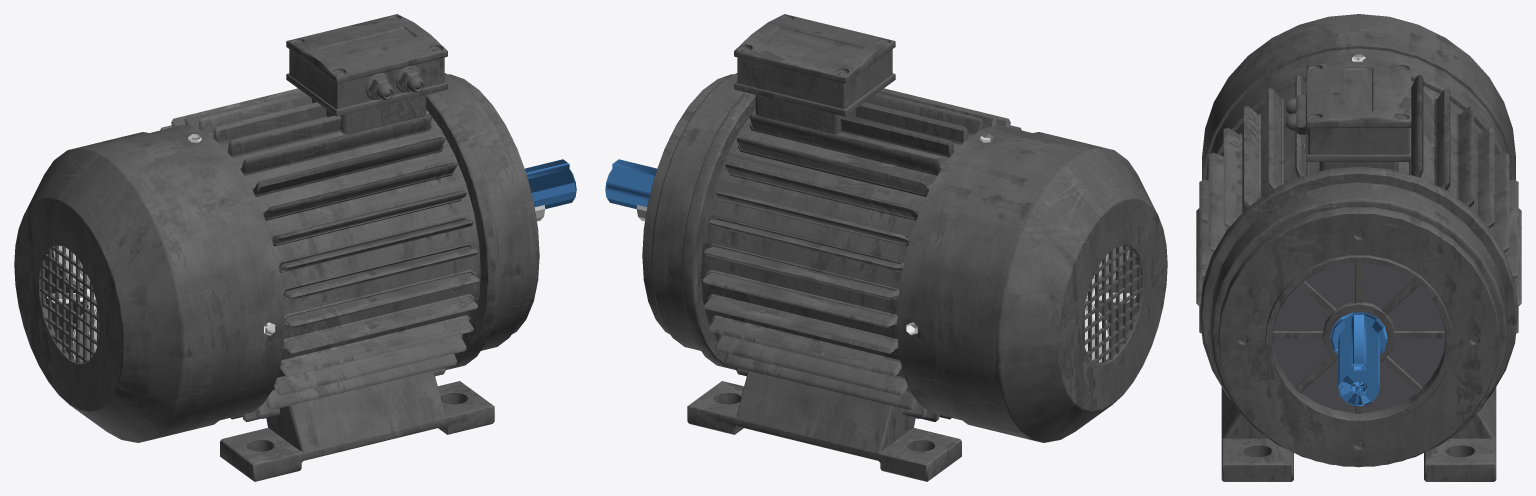
Rendered from Electric-motor0.glb.
3 views of the same model, side by side, from view 1: azimuth 30°, elevation 25°; view 2: azimuth 150°, elevation 25°; view 3: azimuth 270°, elevation 25° (orthographic). The views are drawn at different scales.
Visible parts, largest first — view 1: Body, Shaft, Vent; view 2: Body, Shaft, Vent; view 3: Body, ElectricMotor, Shaft.
Part boxes in pixels (x1,y1,x2,y2): Body: (14,14,539,481); Shaft: (525,159,576,208); Vent: (47,245,96,362); Body: (642,14,1167,481); Shaft: (605,159,656,208); Vent: (1085,245,1135,362); Body: (1196,14,1521,481); ElectricMotor: (1272,263,1445,412); Shaft: (1330,312,1387,405).
Bounding box in the file's own units: 2.07 × 1.38 × 1.12.
Materials: 7 (1 with a texture image).
